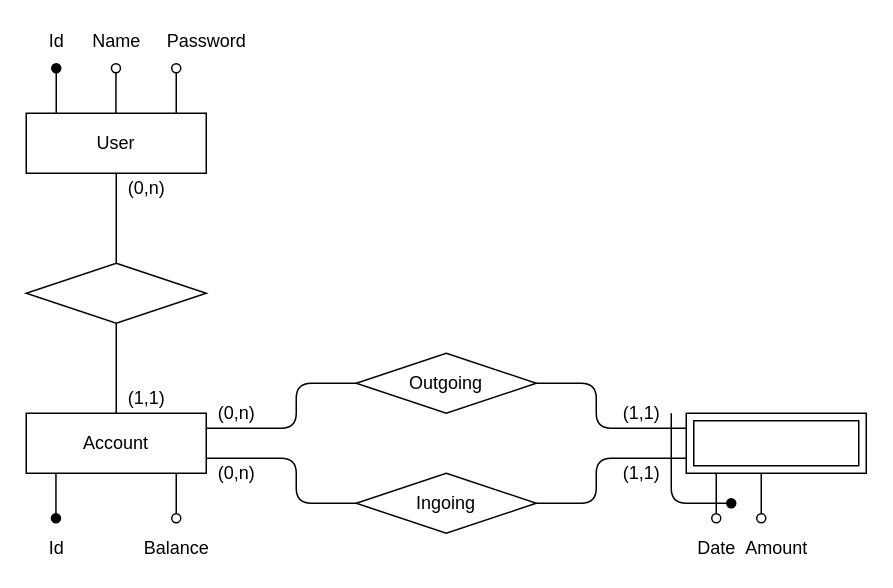
Some shapes in this 893 by 588 pixel diagram are drawn without their labels. The shapes that lost their labels are listed below. From the top down, each one's centre as x and y in pixels, then its label:
At point 115,292: "Ownership".
At point 775,442: "Transfer".
